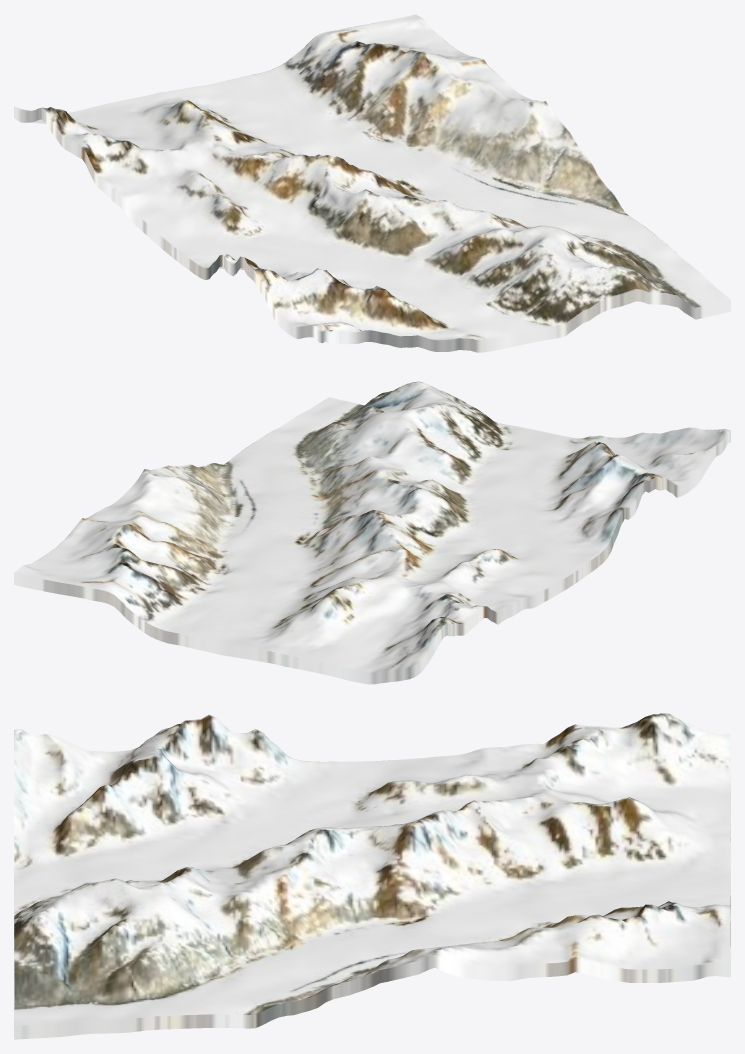
3 renders of one model, top to bottom at view 1: azimuth 30°, elevation 25°; view 2: azimuth 150°, elevation 25°; view 3: azimuth 270°, elevation 25°, orthographic. The views are drawn at different scales.
Visible parts, largest first — view 1: tile; view 2: tile; view 3: tile.
Boxes of the visible parts, <box> form: tile: <box>14,14,730,352</box>; tile: <box>14,381,730,684</box>; tile: <box>14,713,730,1039</box>.
Bounding box in the file's own units: 8100 × 1793 × 11010.
1 material, 1 textured.
